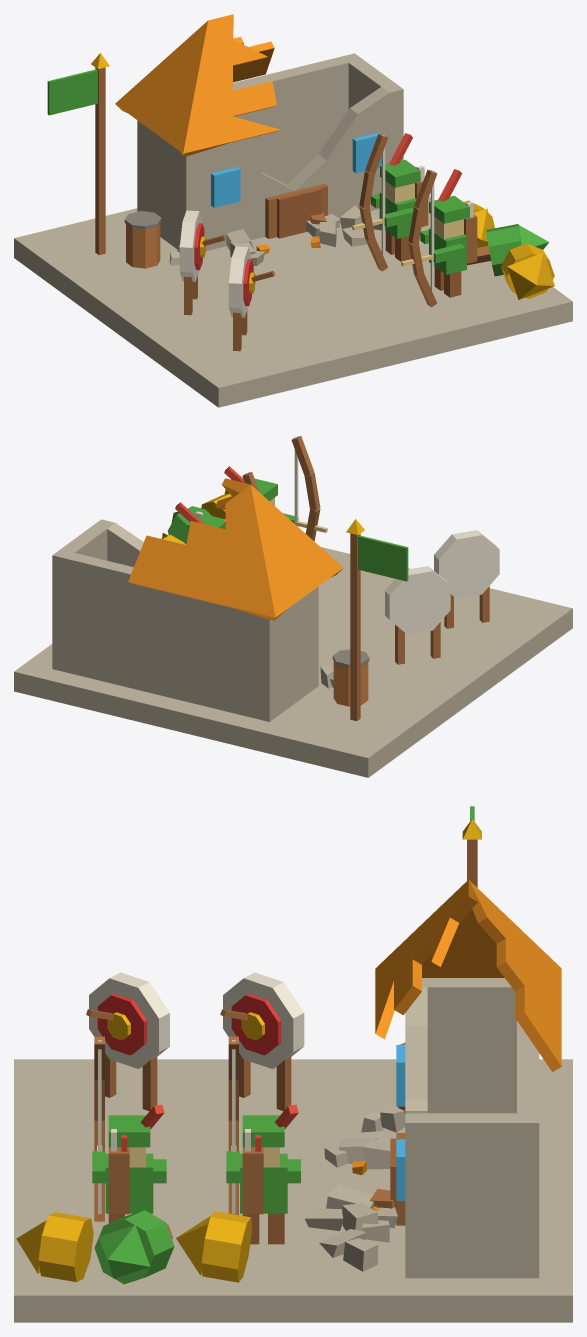
The model's file is archery_range_t2_v2_dmg1.glb.
3 views of the same model, one above another, from view 1: azimuth 30°, elevation 25°; view 2: azimuth 150°, elevation 25°; view 3: azimuth 270°, elevation 25° (orthographic). The views are drawn at different scales.
Parts seen in each view (by area): view 1: archery_range_t2_v2_dmg1; view 2: archery_range_t2_v2_dmg1; view 3: archery_range_t2_v2_dmg1.
Boxes of the visible parts, x1,y1,x2,y2 form: archery_range_t2_v2_dmg1: (14, 14, 572, 407); archery_range_t2_v2_dmg1: (14, 436, 572, 777); archery_range_t2_v2_dmg1: (14, 806, 572, 1322).
Size of the model in its own units: 0.7777 by 0.46 by 0.75.
1 material, 1 textured.
